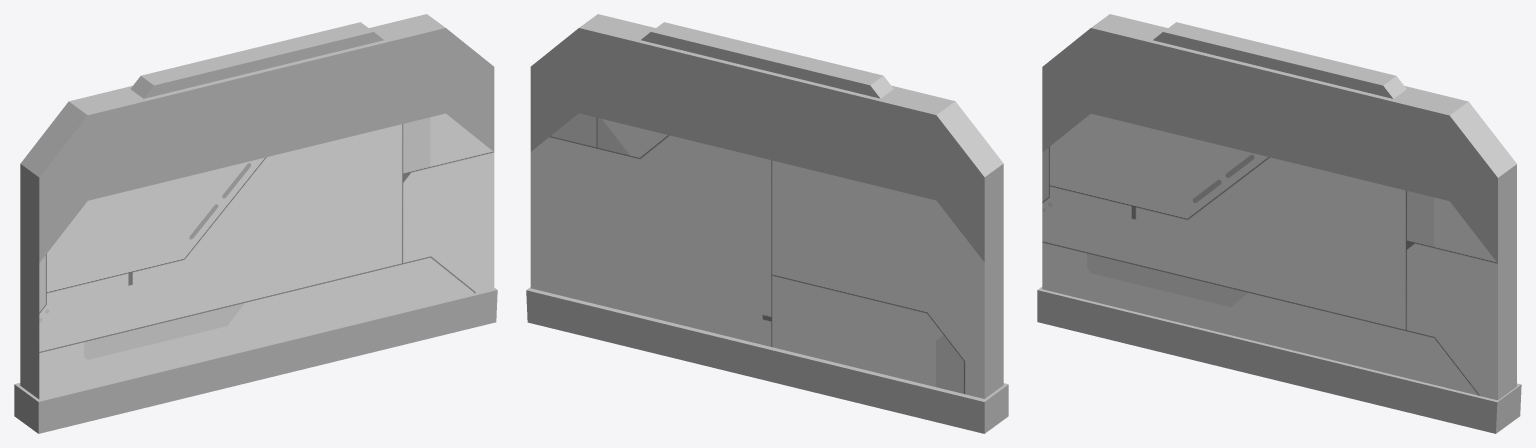
File: SM_Railing_2.fbx
The picture shows the model from 3 angles, left to right: view 1: azimuth 30°, elevation 25°; view 2: azimuth 150°, elevation 25°; view 3: azimuth 330°, elevation 25°; orthographic projection.
Parts seen in each view (by area): view 1: SM_Railing_2; view 2: SM_Railing_2; view 3: SM_Railing_2.
Part boxes in pixels (x1=…): SM_Railing_2: x1=14, y1=14, x2=497, y2=433; SM_Railing_2: x1=526, y1=14, x2=1008, y2=433; SM_Railing_2: x1=1037, y1=14, x2=1521, y2=433.
Bounding box in the file's own units: 151 × 99.33 × 13.85.
